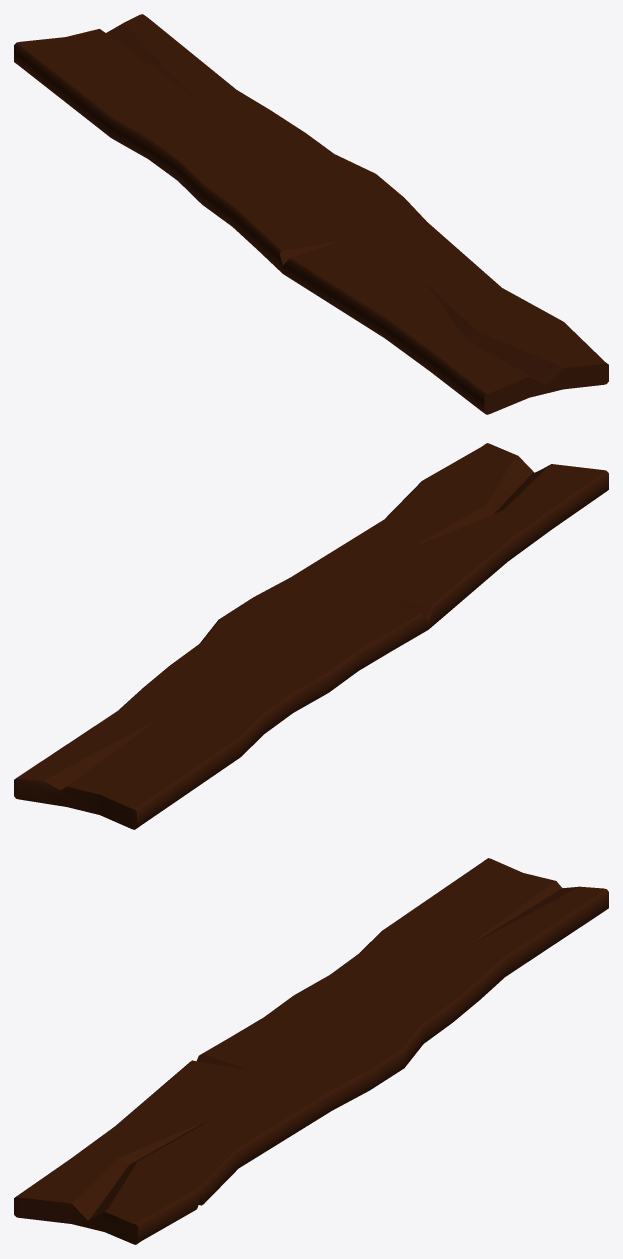
File: Plank.fbx
3 views of the same model, one above another, from view 1: azimuth 30°, elevation 25°; view 2: azimuth 150°, elevation 25°; view 3: azimuth 330°, elevation 25° (orthographic). The views are drawn at different scales.
Parts seen in each view (by area): view 1: Plank; view 2: Plank; view 3: Plank.
Part boxes in pixels (bbox=[...]): Plank: bbox=[14, 14, 608, 414]; Plank: bbox=[14, 443, 608, 829]; Plank: bbox=[14, 858, 608, 1244].
Bounding box in the file's own units: 23.17 × 3 × 124.
